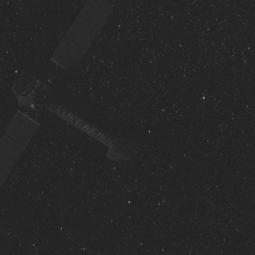xmm_newton: (0, 48, 132, 174)
